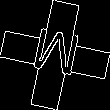M_S: (27, 26, 83, 84)
